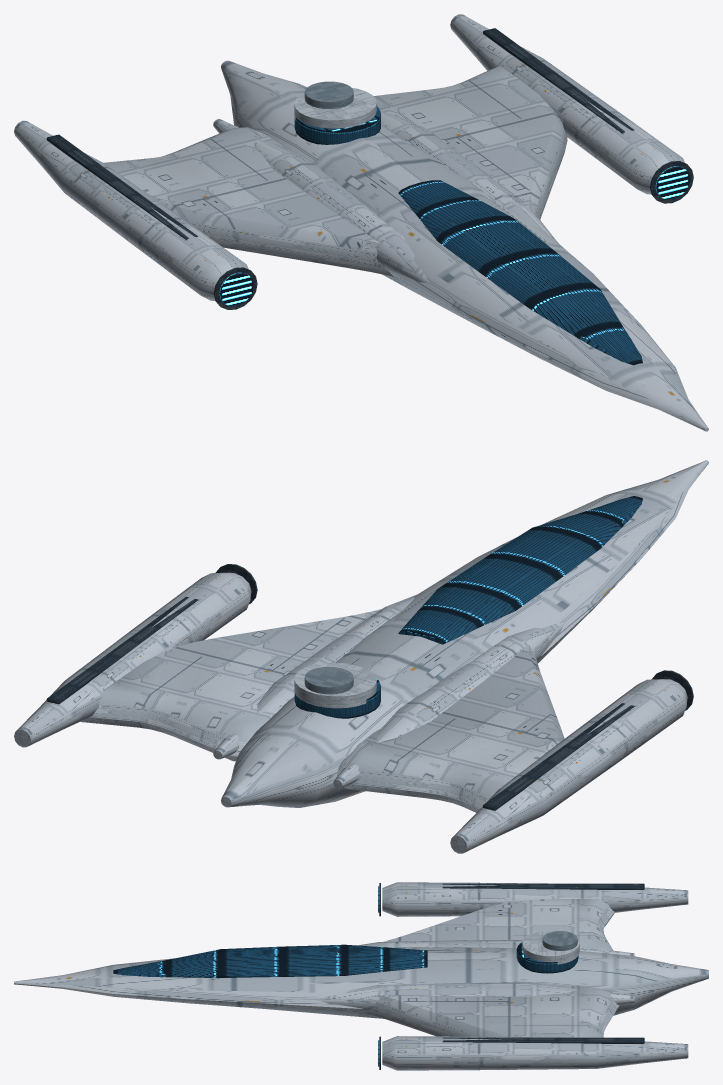
Rendered from alliance_courier_dock_probe.glb.
The picture shows the model from 3 angles, top to bottom: view 1: azimuth 30°, elevation 25°; view 2: azimuth 150°, elevation 25°; view 3: azimuth 270°, elevation 25°; orthographic projection. The views are drawn at different scales.
Visible parts, largest first — view 1: alliance_courier_lod_source; view 2: alliance_courier_lod_source; view 3: alliance_courier_lod_source.
Boxes of the visible parts, <box> form: alliance_courier_lod_source: <box>14,14,708,431</box>; alliance_courier_lod_source: <box>14,460,708,853</box>; alliance_courier_lod_source: <box>14,882,708,1070</box>.
Bounding box in the file's own units: 1.11 × 0.2534 × 1.89.
Materials: 1 (1 with a texture image).
